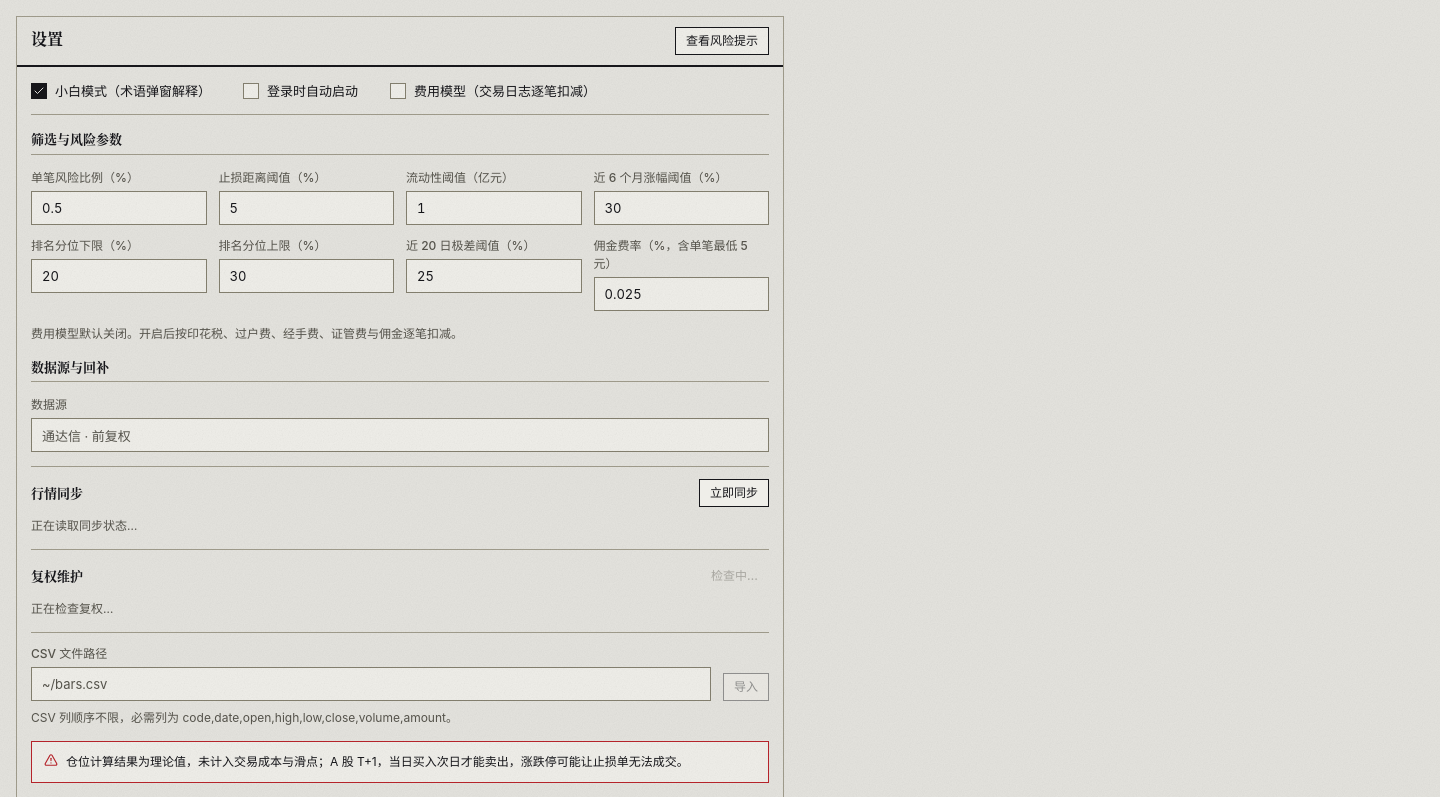
it: 设置页 › 设置页保留风险提示入口，点开可重看五条
What coordinates should you click on to do the following:
click the button "查看风险提示"
I would click on:
 (722, 41)
Its box is [675,27,769,55].
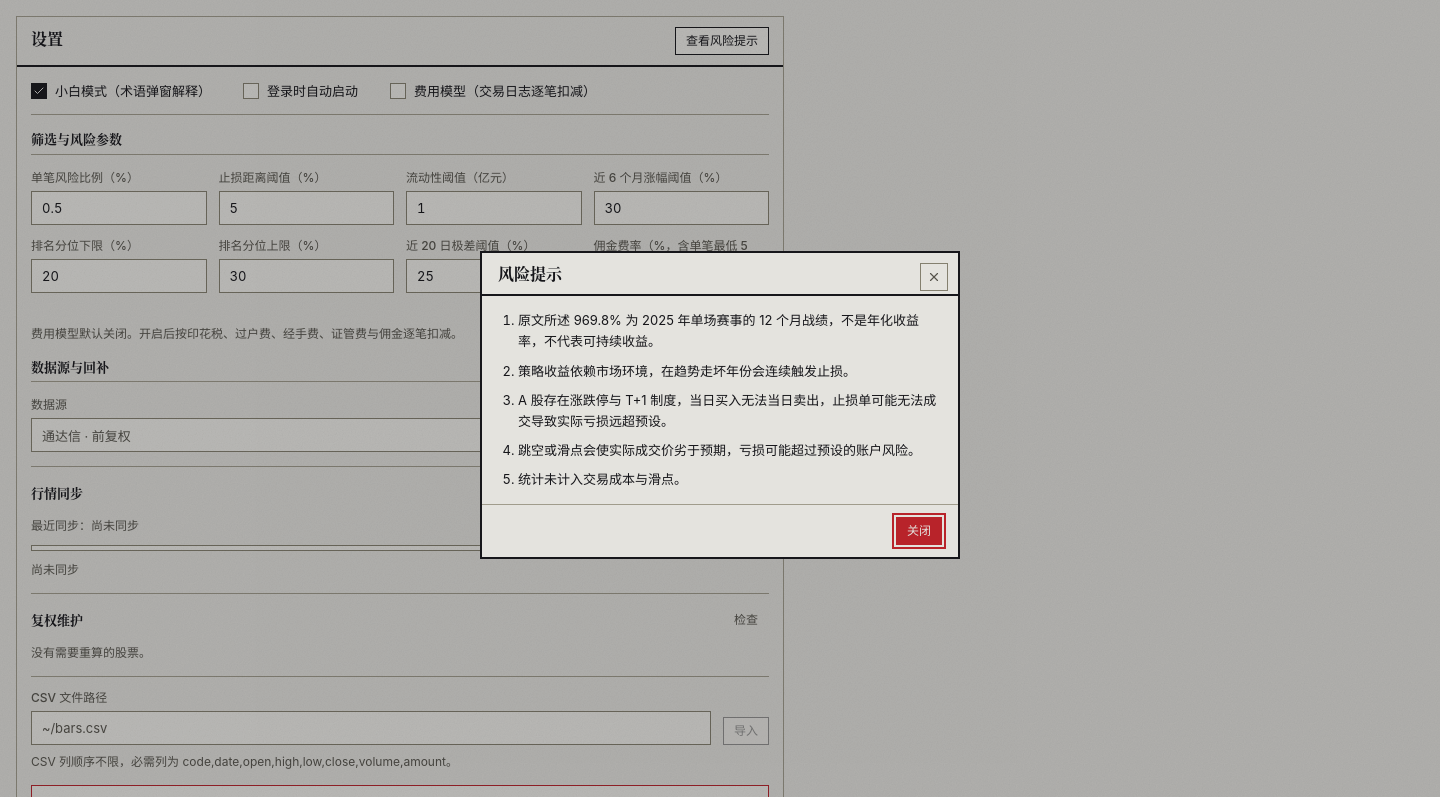
Check: the number of list items is 5, box [518,310,942,353]; [518,363,856,379]; [518,390,942,432]; [518,440,942,461]; [518,471,687,487]
